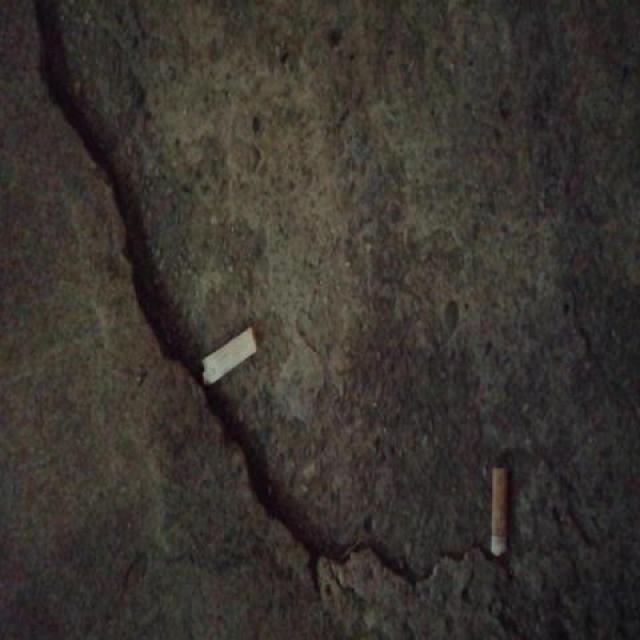non-organic waste: (196, 318, 259, 394), (487, 462, 512, 562)
